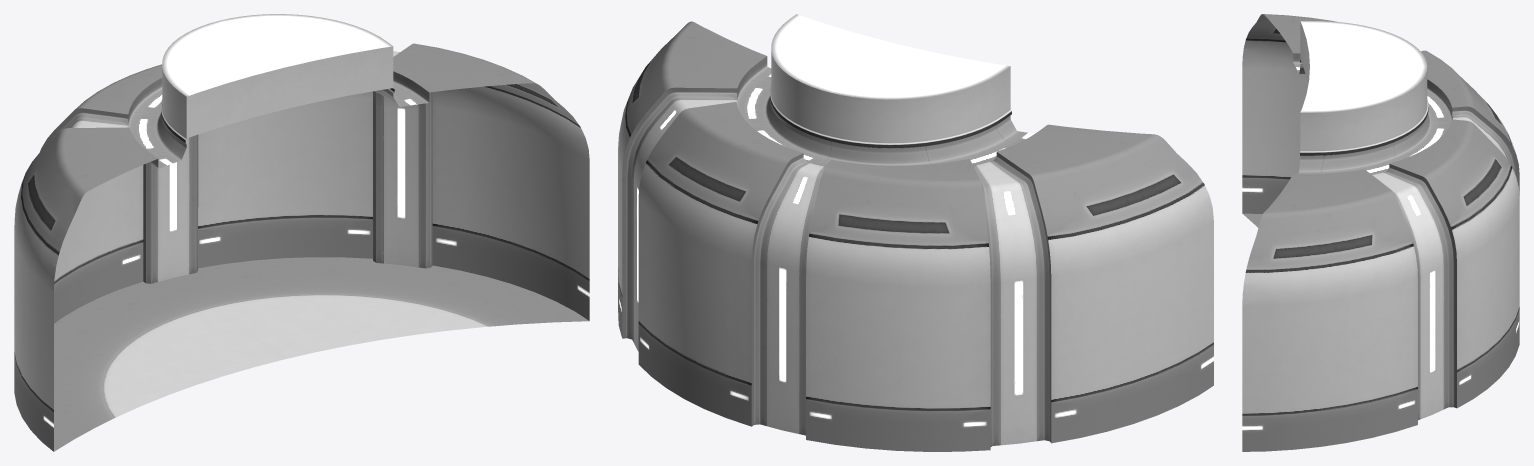
File: MWall06-700x300-1.FBX
The picture shows the model from 3 angles, left to right: view 1: azimuth 30°, elevation 25°; view 2: azimuth 150°, elevation 25°; view 3: azimuth 270°, elevation 25°; orthographic projection. The views are drawn at different scales.
Visible parts, largest first — view 1: MWall06-700x300-1; view 2: MWall06-700x300-1; view 3: MWall06-700x300-1.
Boxes of the visible parts, x1=… form: MWall06-700x300-1: x1=14, y1=14, x2=589, y2=451; MWall06-700x300-1: x1=618, y1=14, x2=1213, y2=451; MWall06-700x300-1: x1=1242, y1=14, x2=1519, y2=451.
Size of what is drawn, in the model's own units: 7 by 3.64 by 3.44.
